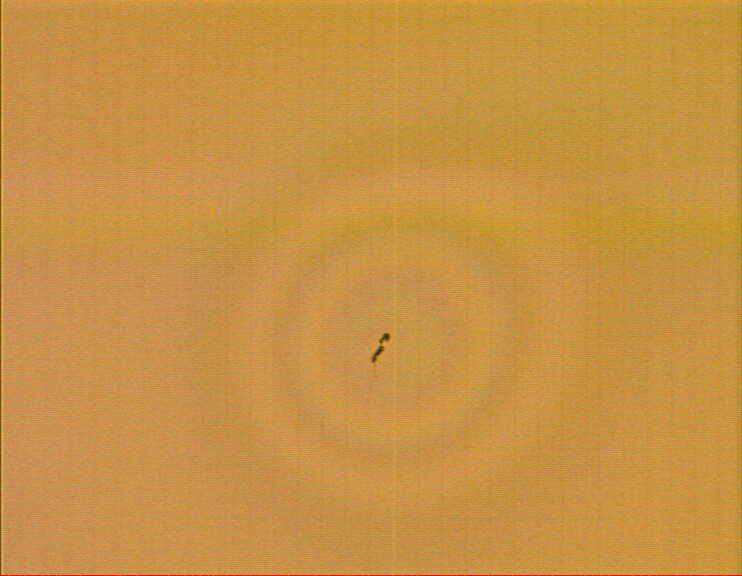PIQ PARTICLE: (367, 330, 396, 382)
